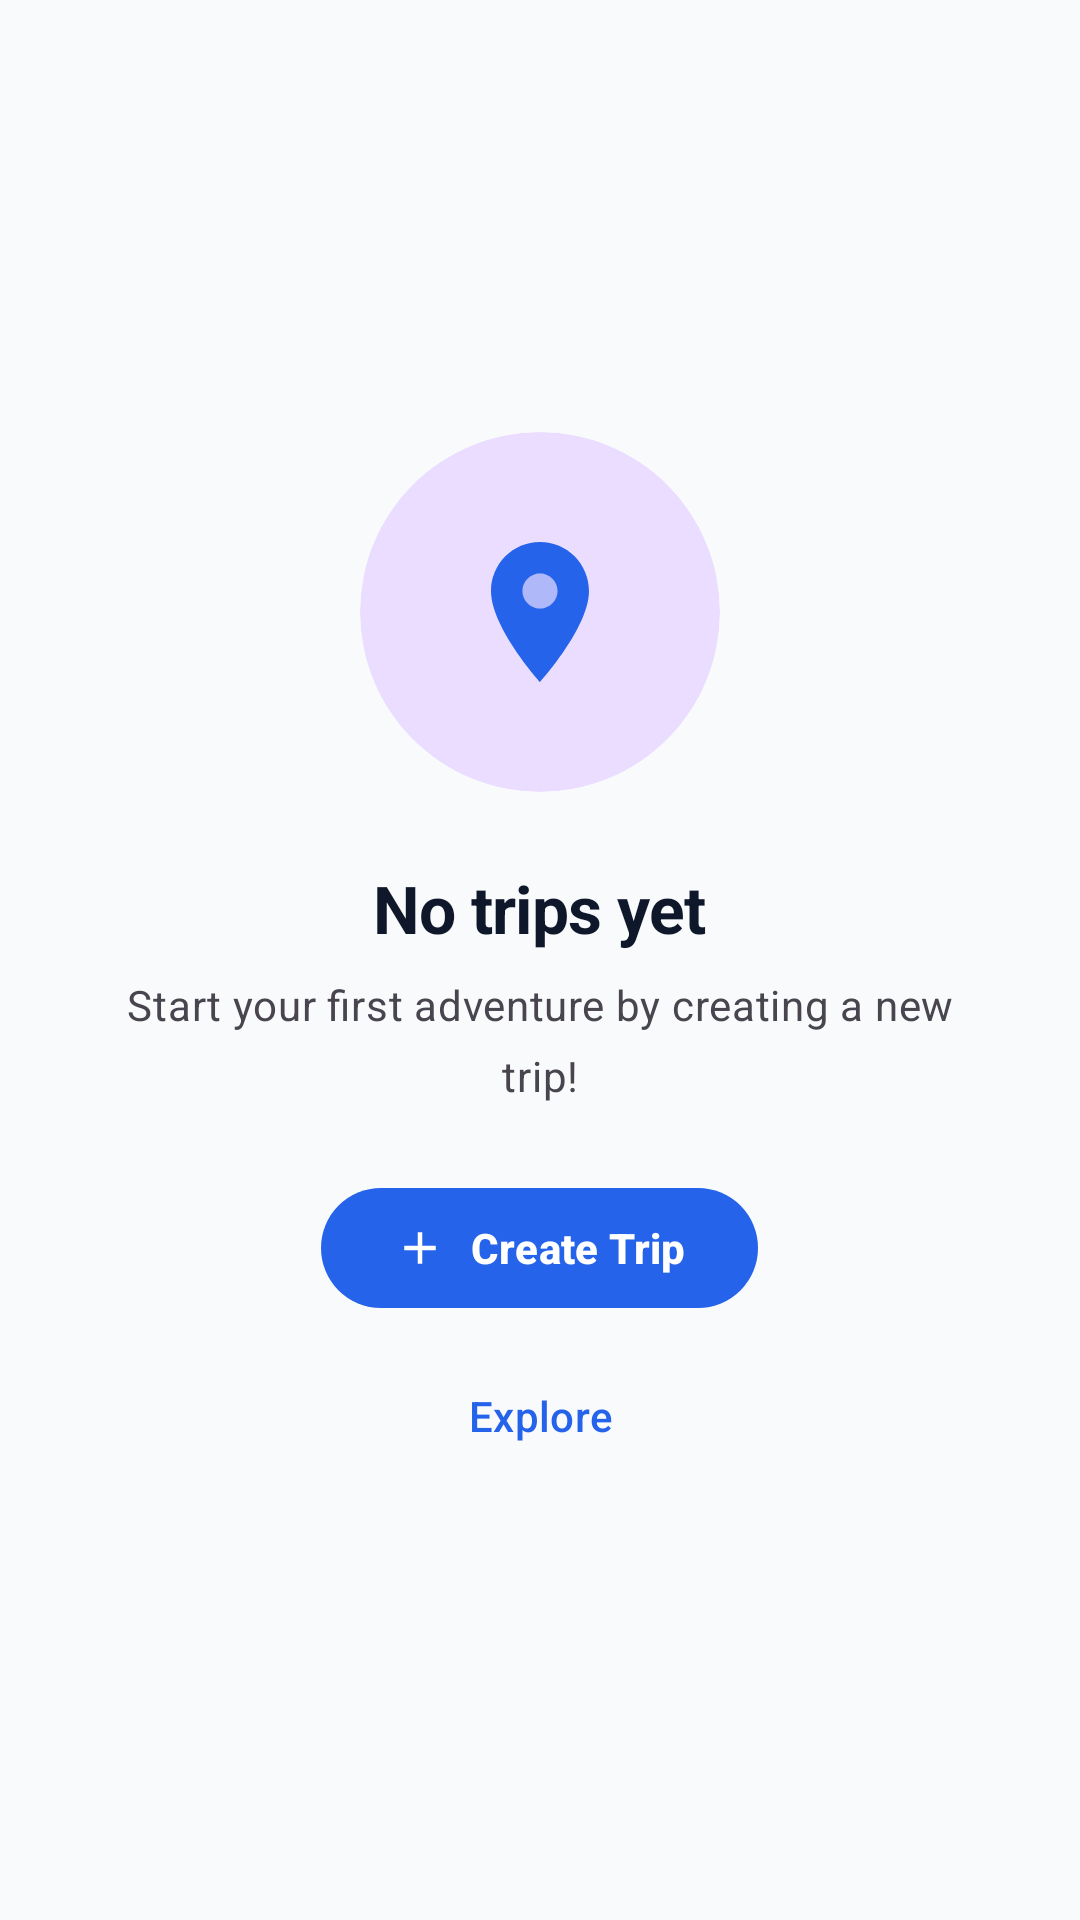

Screen size 1080 x 1920. Icon name, then its center in pixels as point (x, y):
No trips yet: point (540, 612)
